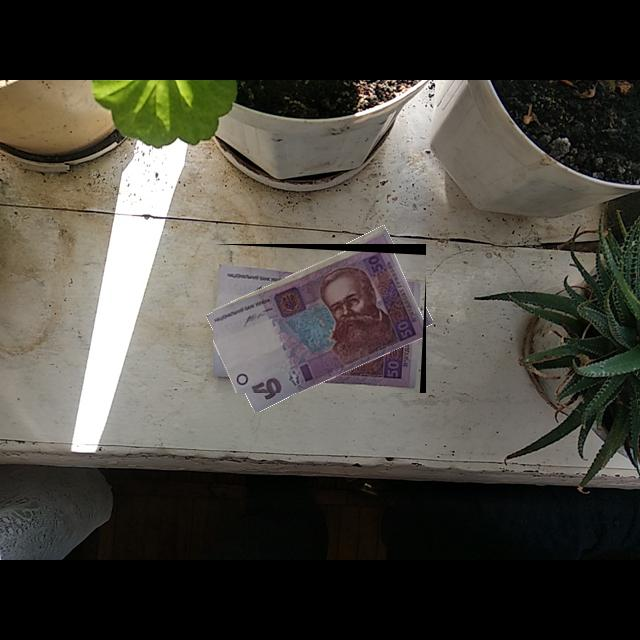50uah: (213, 244, 427, 394)
